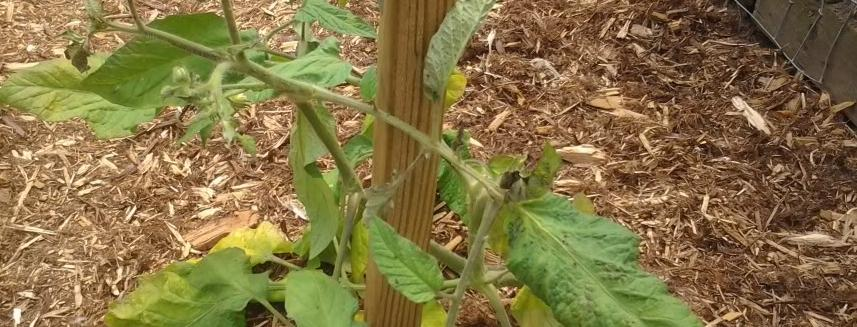Tomato leaf: (503, 191, 751, 327), (0, 56, 151, 138), (288, 248, 386, 327)
